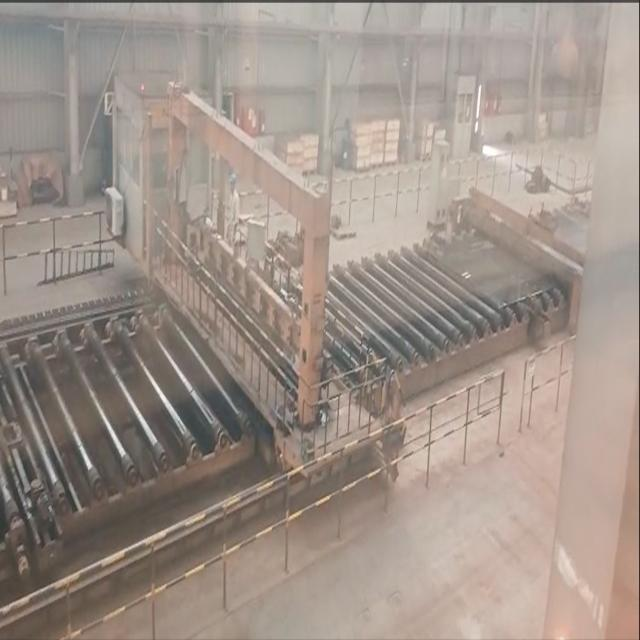warningzone: (4, 286, 271, 592), (335, 224, 568, 400)
